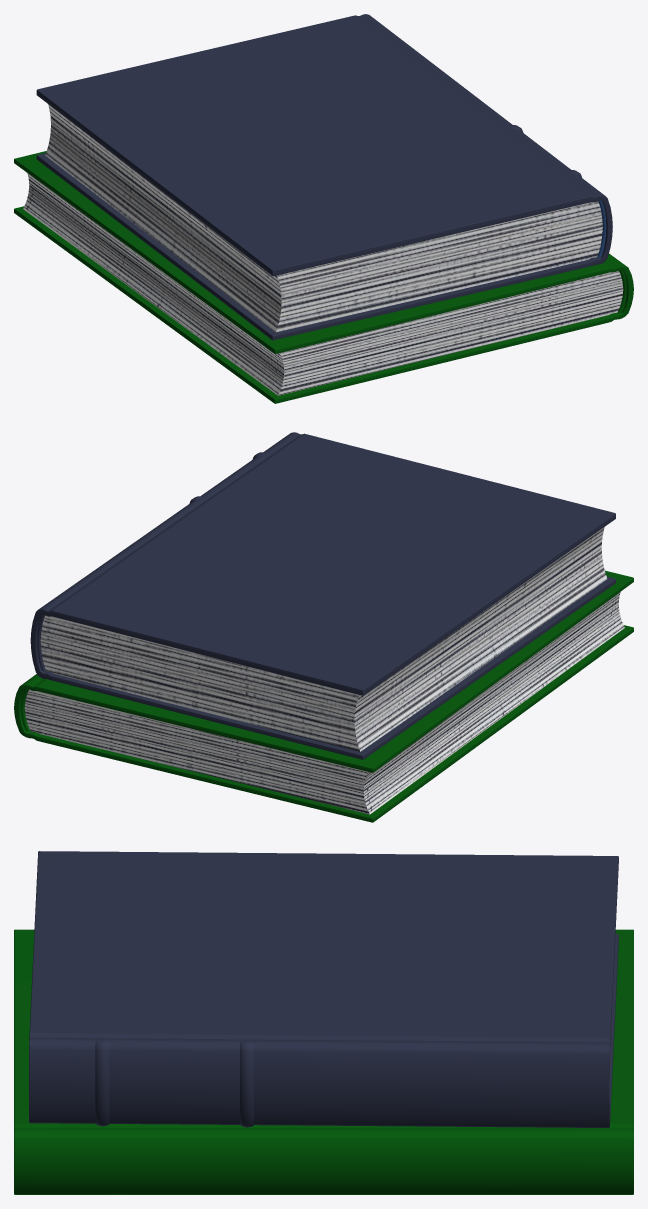
Rendered from UnboundBooks.fbx.
The picture shows the model from 3 angles, top to bottom: view 1: azimuth 30°, elevation 25°; view 2: azimuth 150°, elevation 25°; view 3: azimuth 270°, elevation 25°; orthographic projection. The views are drawn at different scales.
Parts seen in each view (by area): view 1: polySurface42; view 2: polySurface42; view 3: polySurface42.
Boxes of the visible parts, box(x1,y1,x2,y2) form: polySurface42: box(14, 14, 633, 403); polySurface42: box(14, 432, 633, 822); polySurface42: box(14, 851, 633, 1194).
Bounding box in the file's own units: 21.32 × 7.06 × 26.83.
